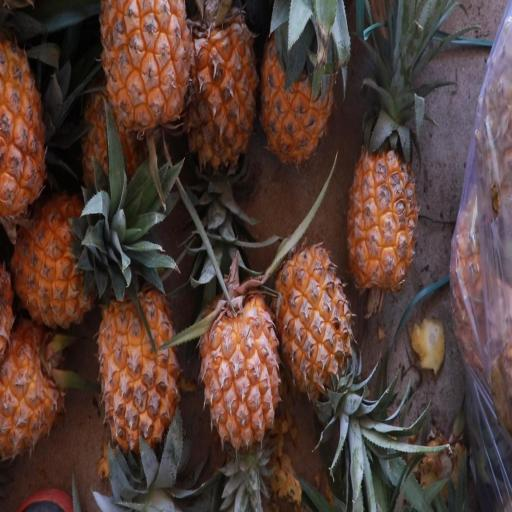Pineapple - v8 v1: (3, 188, 130, 336), (97, 275, 184, 486), (98, 0, 198, 177), (269, 238, 355, 432), (194, 279, 282, 462), (342, 107, 421, 296), (184, 0, 263, 180), (256, 10, 334, 170), (0, 28, 53, 234), (0, 310, 71, 461)
